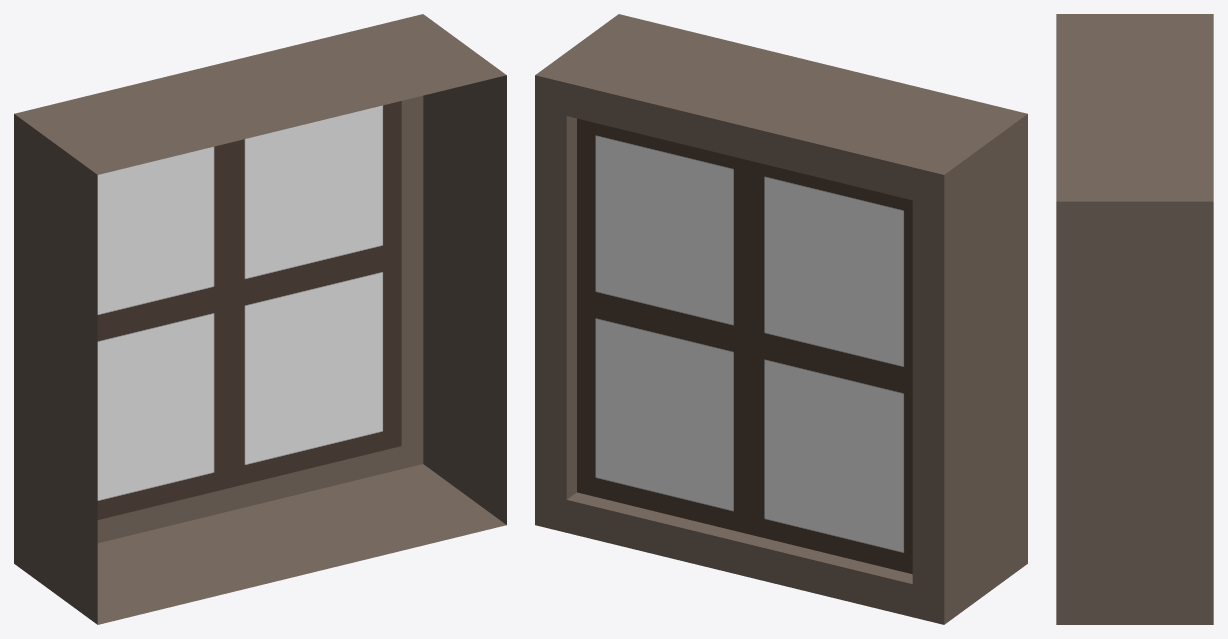
Rendered from window.fbx.
3 renders of one model, left to right at view 1: azimuth 30°, elevation 25°; view 2: azimuth 150°, elevation 25°; view 3: azimuth 270°, elevation 25°, orthographic. The views are drawn at different scales.
Parts seen in each view (by area): view 1: window1_Mesh1_Model; view 2: window1_Mesh1_Model; view 3: window1_Mesh1_Model.
Boxes of the visible parts, x1,y1,x2,y2 form: window1_Mesh1_Model: (14,14,506,624); window1_Mesh1_Model: (535,14,1027,624); window1_Mesh1_Model: (1056,14,1213,624).
Bounding box in the file's own units: 88.34 × 92.86 × 31.28.
Materials: 2 (2 with a texture image).
